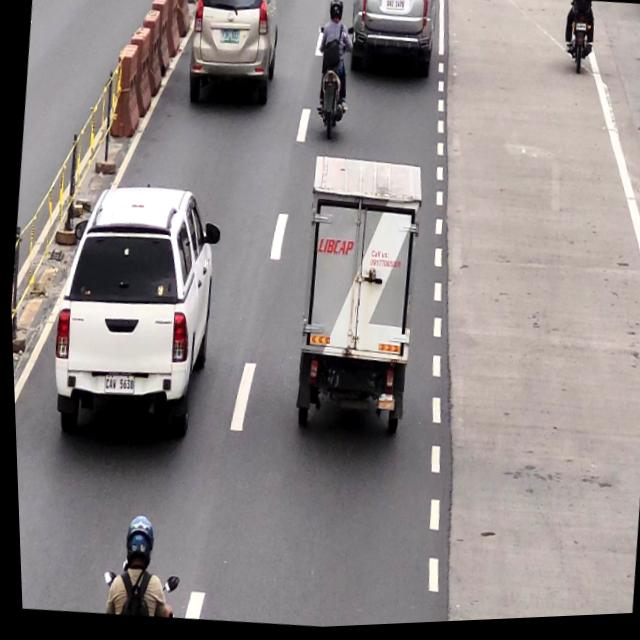Car: (42, 179, 224, 448), (282, 156, 431, 448), (182, 0, 282, 112), (349, 0, 440, 73)
License-Plate: (99, 374, 133, 400), (220, 31, 241, 47), (386, 1, 404, 15)
Motorcycle: (97, 508, 179, 621), (307, 0, 355, 139), (562, 3, 600, 80)
